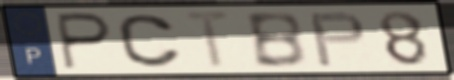8: (376, 9, 430, 68)
B: (242, 10, 310, 70)
C: (114, 13, 186, 69)
P: (54, 11, 116, 73), (306, 9, 369, 68)
T: (180, 9, 239, 71)
